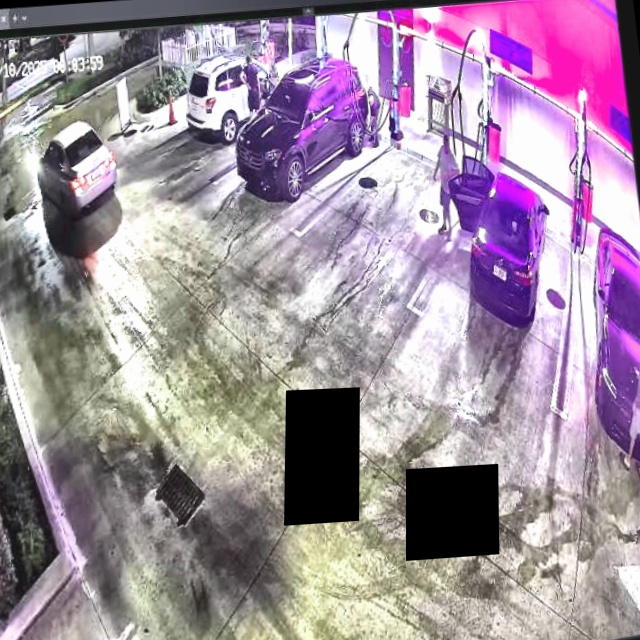Car: (228, 54, 377, 200), (444, 143, 558, 328)
